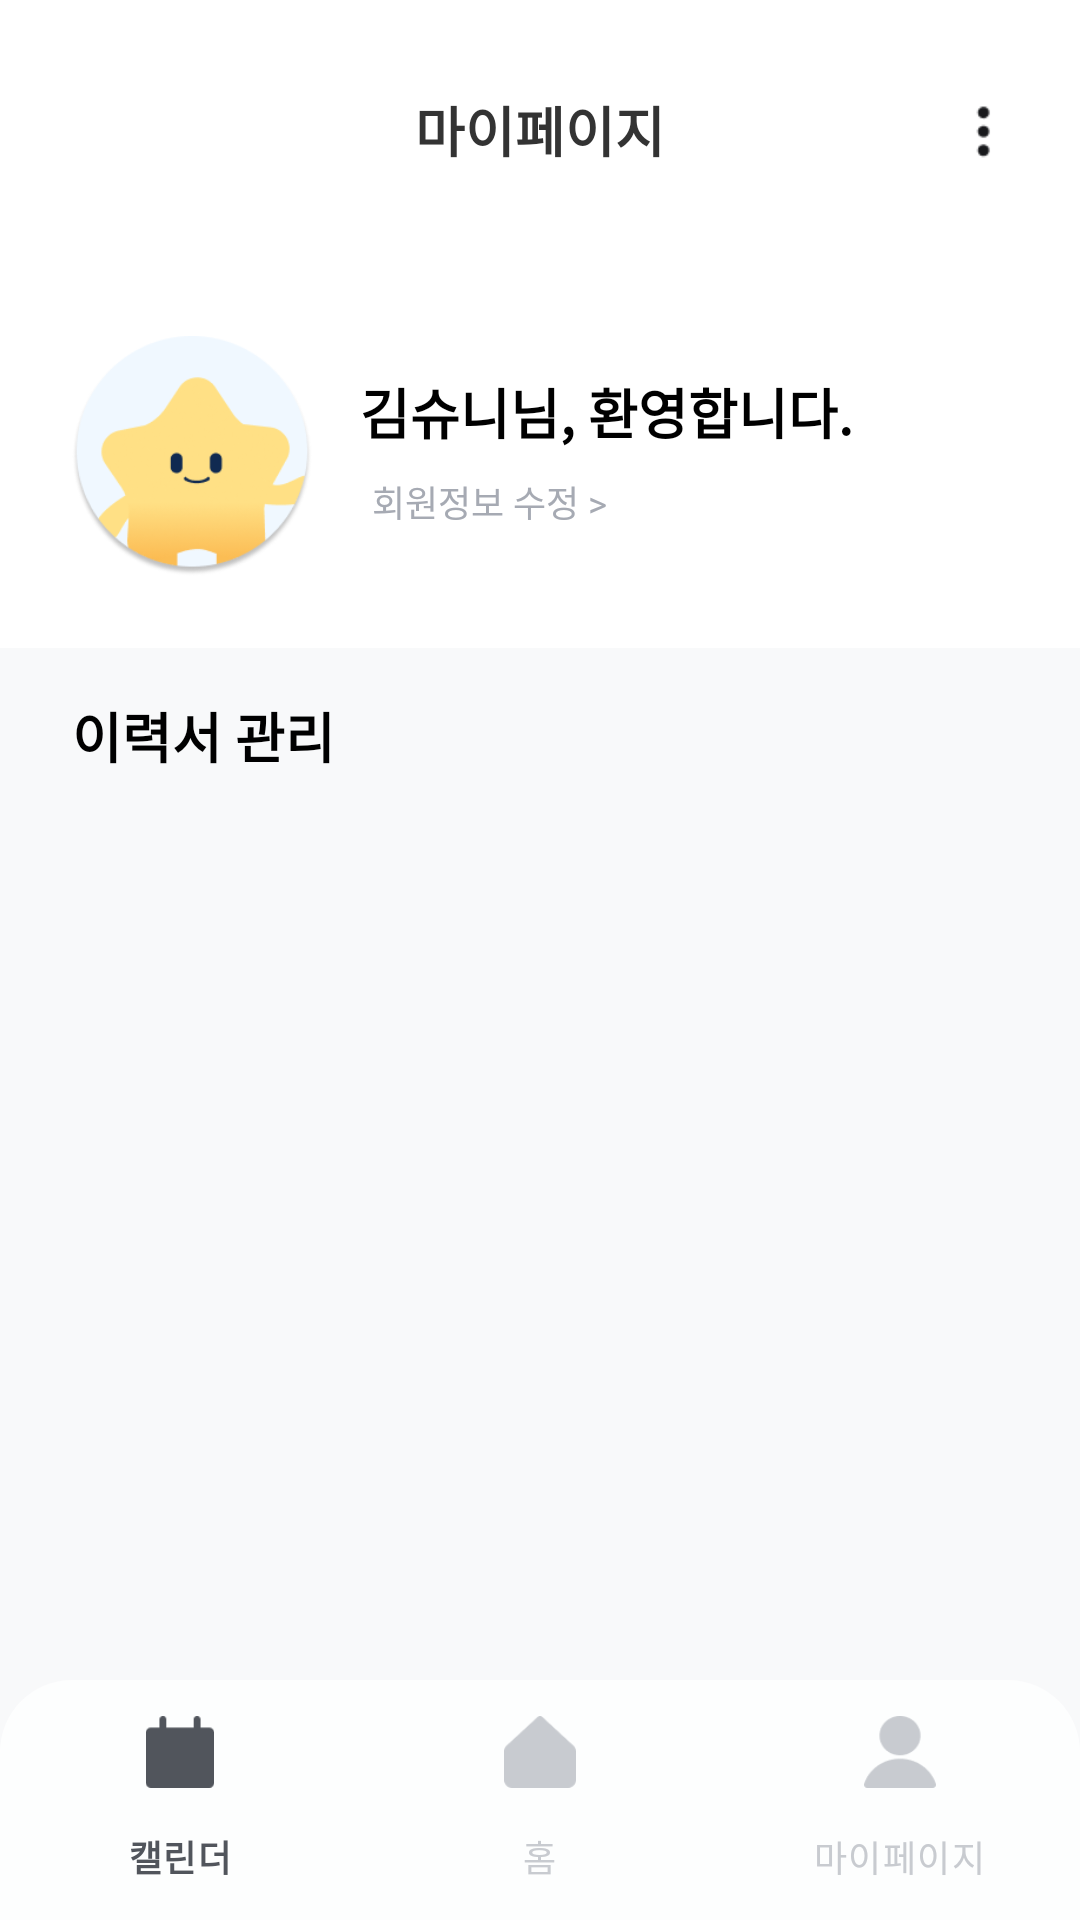

Screen size 1080x1920. Icon name, then its center in pixels as (x=x, y=y):
more: (x=983, y=131)
profile: (x=192, y=474)
